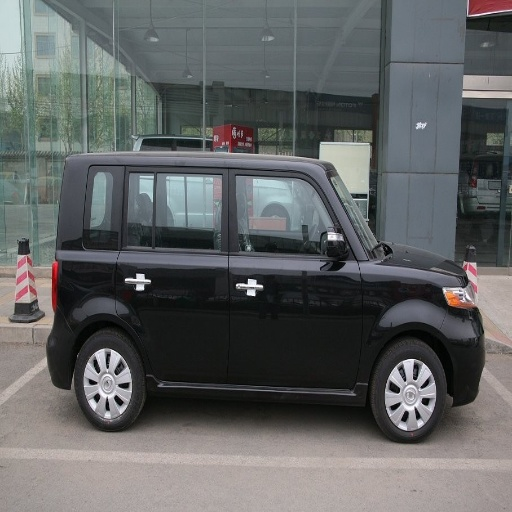back_right_door: (117, 163, 227, 383)
front_right_door: (228, 165, 362, 388)
